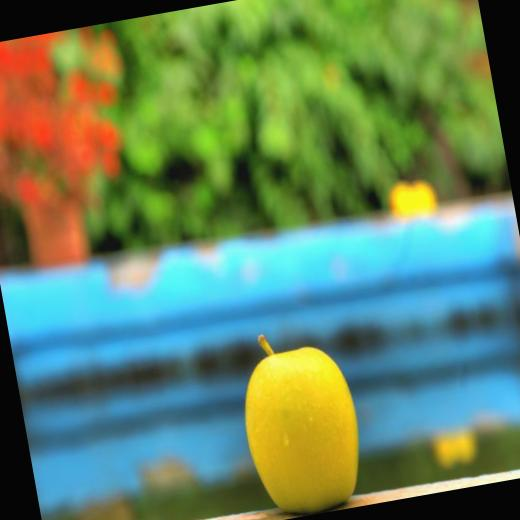Apple: (231, 319, 371, 520)
